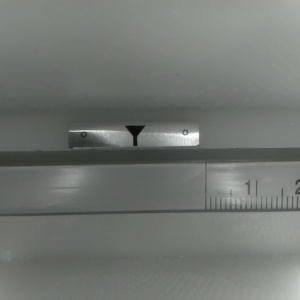1: (244, 181, 251, 196)
2: (294, 179, 300, 195)
finger: (125, 126, 144, 144)
